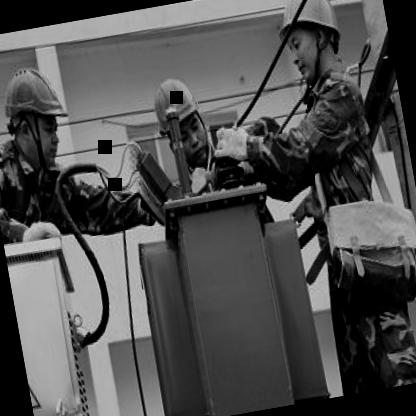helmet: (0, 55, 76, 182), (262, 0, 355, 93), (143, 68, 214, 169)
